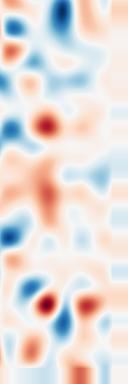filament: (29, 280, 63, 327), (27, 102, 63, 146)
